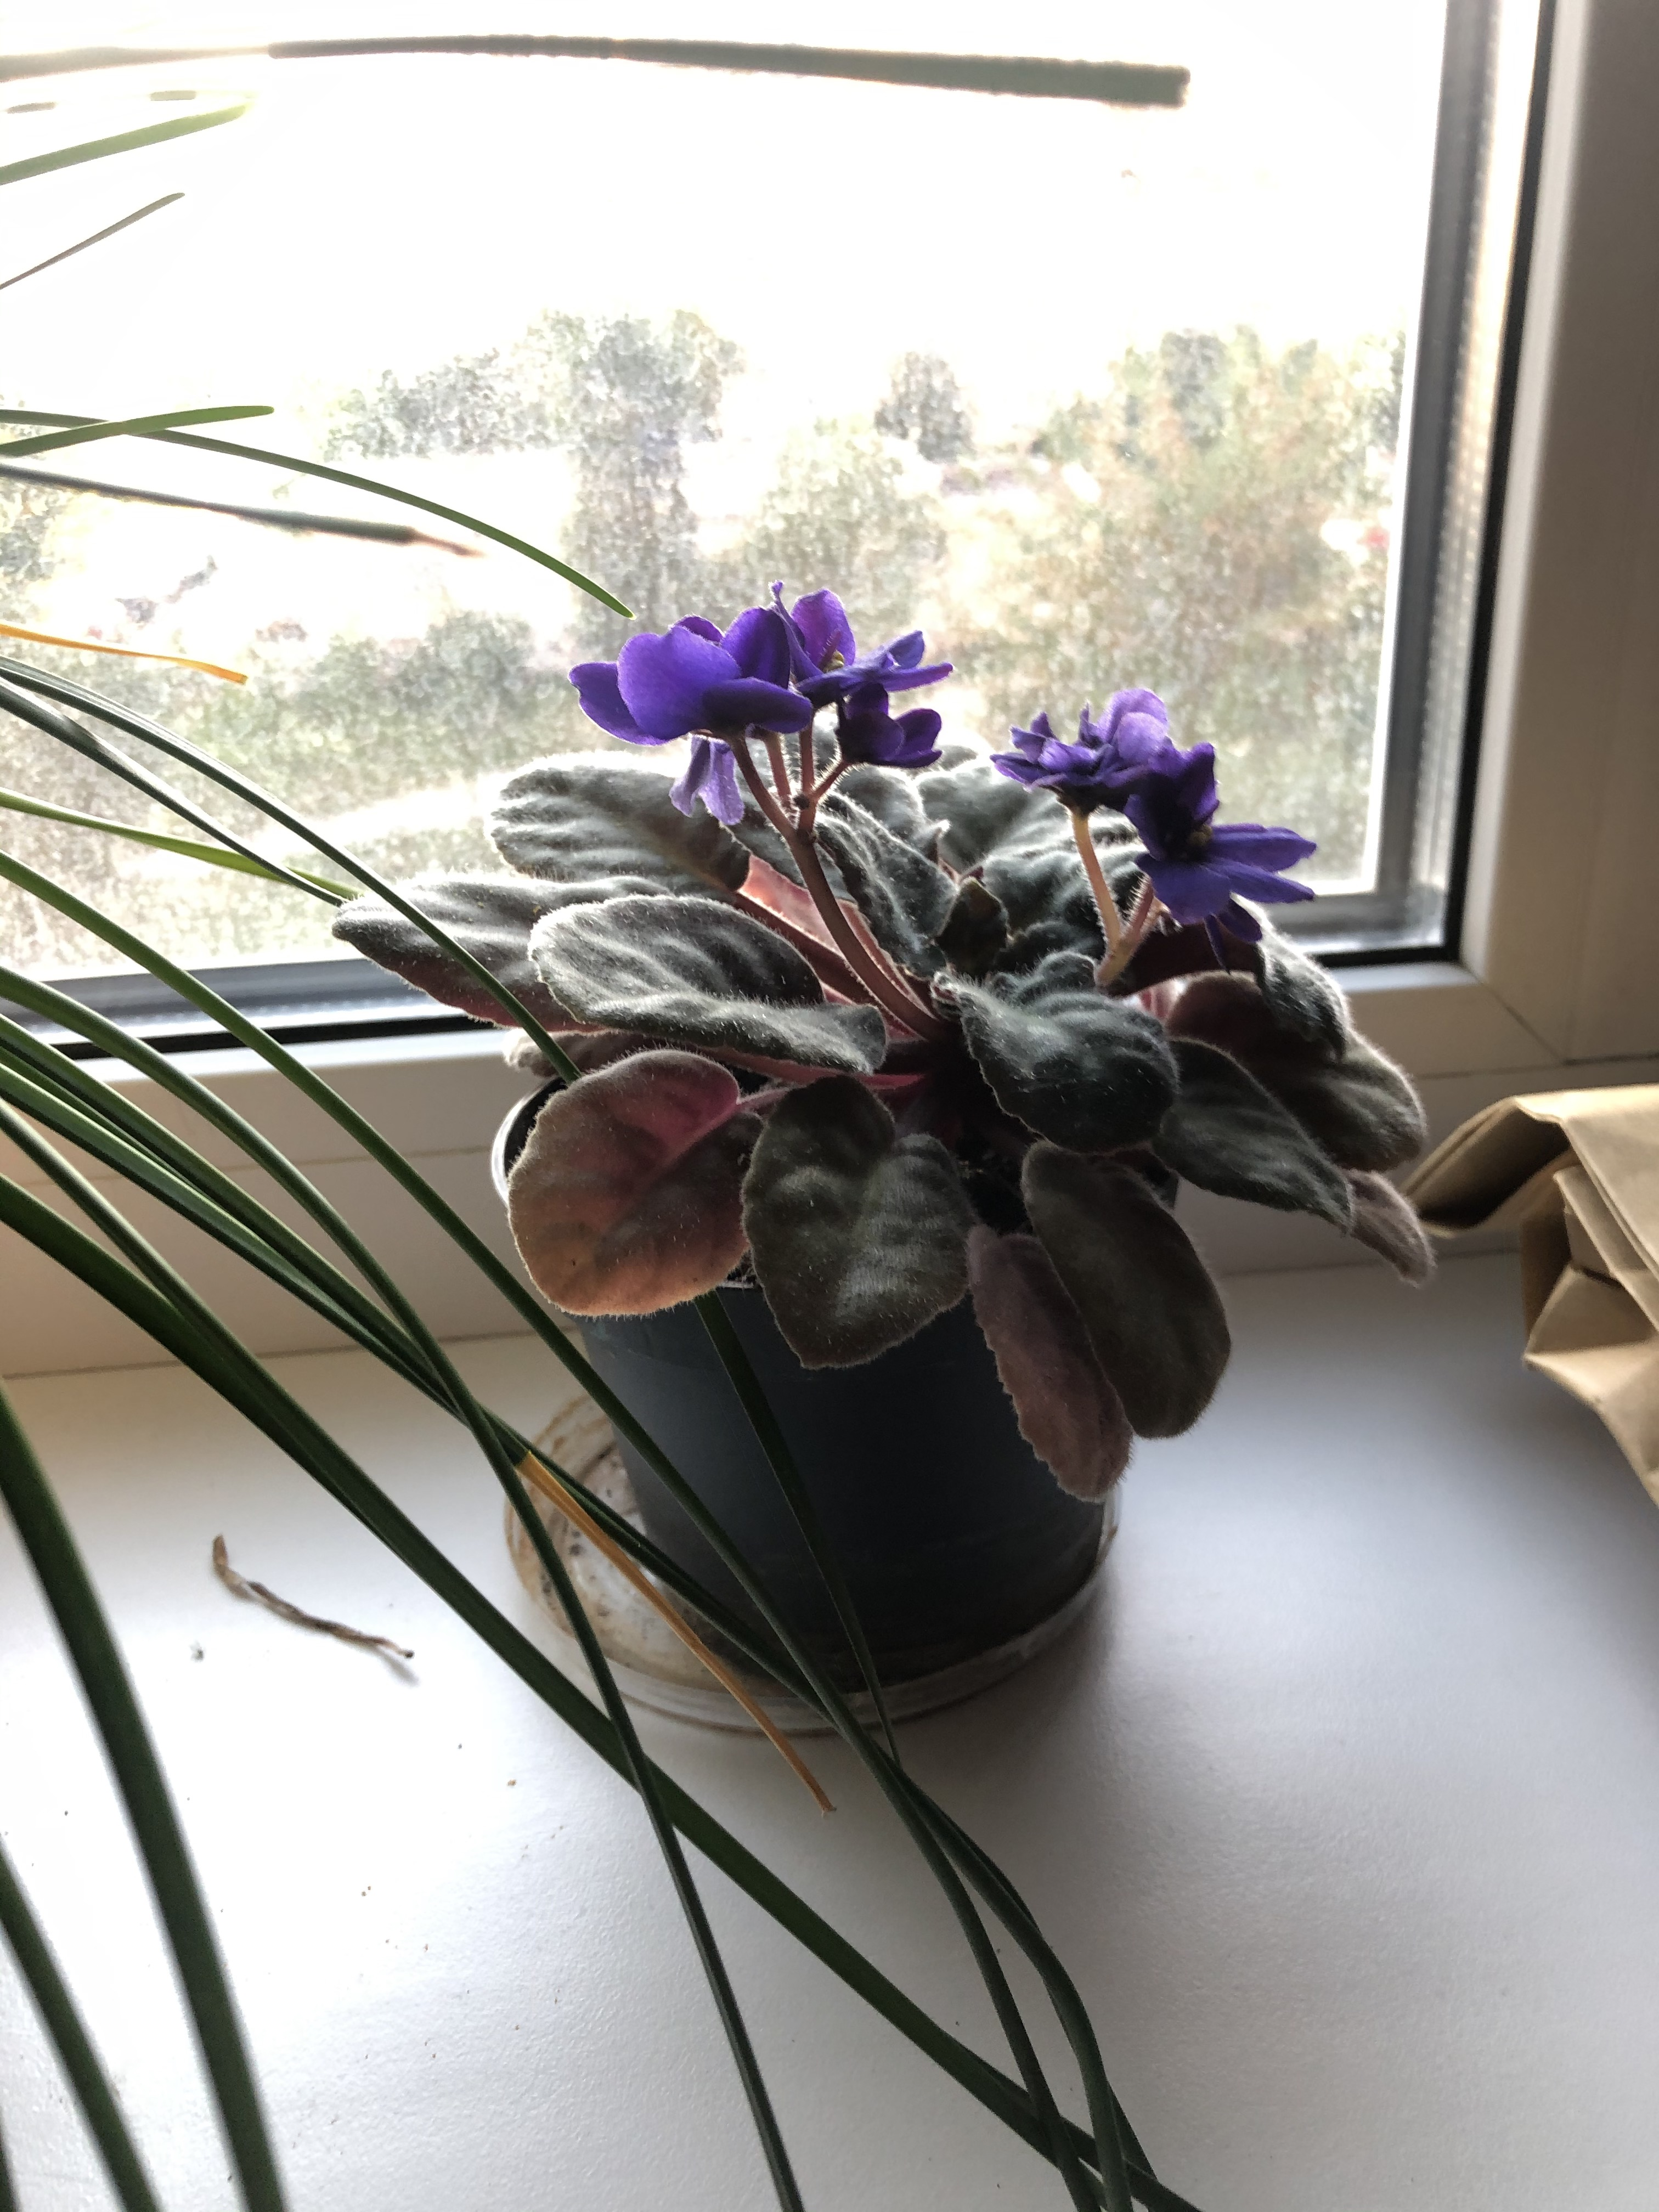ignore: (303, 564, 1467, 1529)
